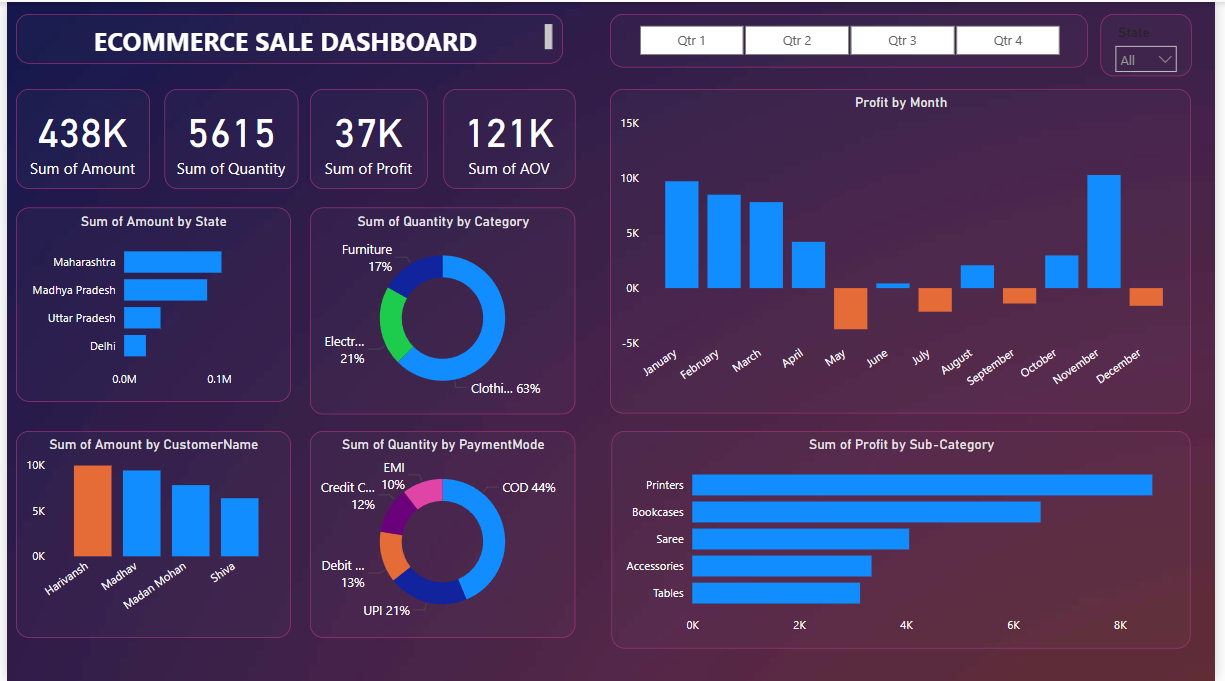

This screenshot's page, from the dashboard's own definition file:
{"tool":"powerbi","page":{"name":"Page 1","canvas":[1280,720],"ordinal":0},"visuals":[{"type":"columnChart","title":"Profit by Month","fields":{"Category":["Orders.Order Date.Variation.Date Hierarchy.Month"],"Y":["Details.Profit"]},"box":[638.7,92.6,616.1,343.9],"z":0},{"type":"barChart","fields":{"Category":["Details.Sub-Category"],"Y":["Details.Profit"]},"box":[640.6,455.4,614.2,230.6],"z":1000},{"type":"donutChart","fields":{"Category":["Details.Category"],"Y":["Details.Quantity"]},"box":[321.3,217.3,281.6,219.2],"z":2000},{"type":"donutChart","fields":{"Y":["Details.Quantity"],"Category":["Details.PaymentMode"]},"box":[321.3,455.4,281.6,219.2],"z":3000},{"type":"card","fields":{"Values":["Details.Amount"]},"box":[9.4,92.6,141.7,105.8],"z":4000},{"type":"card","fields":{"Values":["Details.Quantity"]},"box":[166.3,92.6,141.7,105.8],"z":5000},{"type":"card","fields":{"Values":["Details.Profit"]},"box":[321.3,92.6,124.7,105.8],"z":6000},{"type":"card","fields":{"Values":["Details.AOV"]},"box":[463,92.6,139.8,105.8],"z":7000},{"type":"barChart","fields":{"Category":["Orders.State"],"Y":["Details.Amount"]},"box":[9.4,217.3,291,206],"z":8000},{"type":"columnChart","fields":{"Category":["Orders.CustomerName"],"Y":["Details.Amount"]},"box":[9.4,455.4,291,219.2],"z":9000},{"type":"textbox","box":[9.4,13.2,580.2,52.9],"z":10000},{"type":"slicer","fields":{"Values":["Orders.Order Date.Variation.Date Hierarchy.Quarter"]},"box":[638.7,13.2,506.5,56.7],"z":11000},{"type":"slicer","fields":{"Values":["Orders.State"]},"box":[1160.3,13.2,96.4,66.1],"z":12000}]}

Visuals, with their boxes in screenshot pixels (x1, y1, x2, y2), scaled from the page's 1280x720 canvas onto the 1225x681 screenshot:
"Profit by Month" columnChart: bbox(611, 88, 1201, 413)
barChart - Details.Sub-Category x Details.Profit: bbox(613, 431, 1201, 649)
donutChart - Details.Category x Details.Quantity: bbox(307, 206, 577, 413)
donutChart - Details.Quantity x Details.PaymentMode: bbox(307, 431, 577, 638)
card - Details.Amount: bbox(9, 88, 145, 188)
card - Details.Quantity: bbox(159, 88, 295, 188)
card - Details.Profit: bbox(307, 88, 427, 188)
card - Details.AOV: bbox(443, 88, 577, 188)
barChart - Orders.State x Details.Amount: bbox(9, 206, 287, 400)
columnChart - Orders.CustomerName x Details.Amount: bbox(9, 431, 287, 638)
textbox: bbox(9, 12, 564, 63)
slicer - Orders.Order Date.Variation.Date Hierarchy.Quarter: bbox(611, 12, 1096, 66)
slicer - Orders.State: bbox(1110, 12, 1203, 75)
